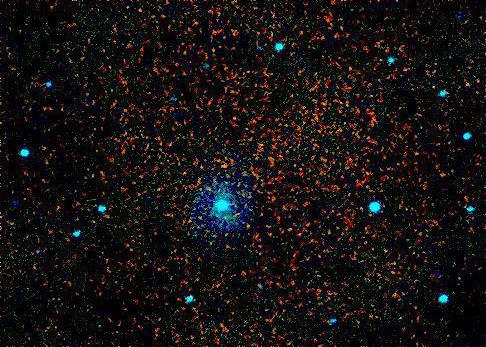star: (208, 153, 238, 183)
